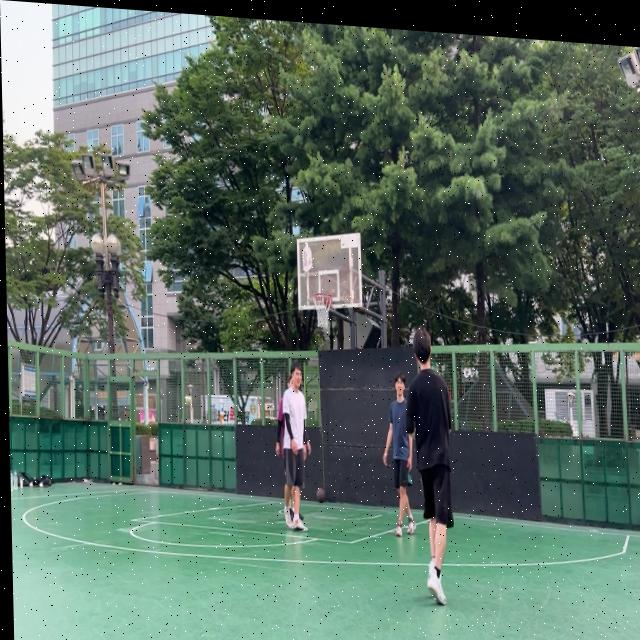basketball: (316, 486, 326, 504)
hoop: (313, 292, 333, 330)
